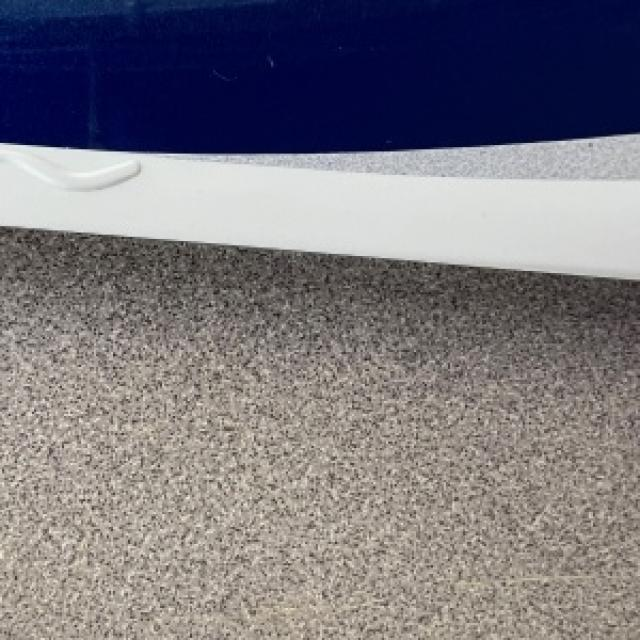healthy: (0, 228, 638, 638), (0, 0, 638, 275), (0, 132, 638, 275)
